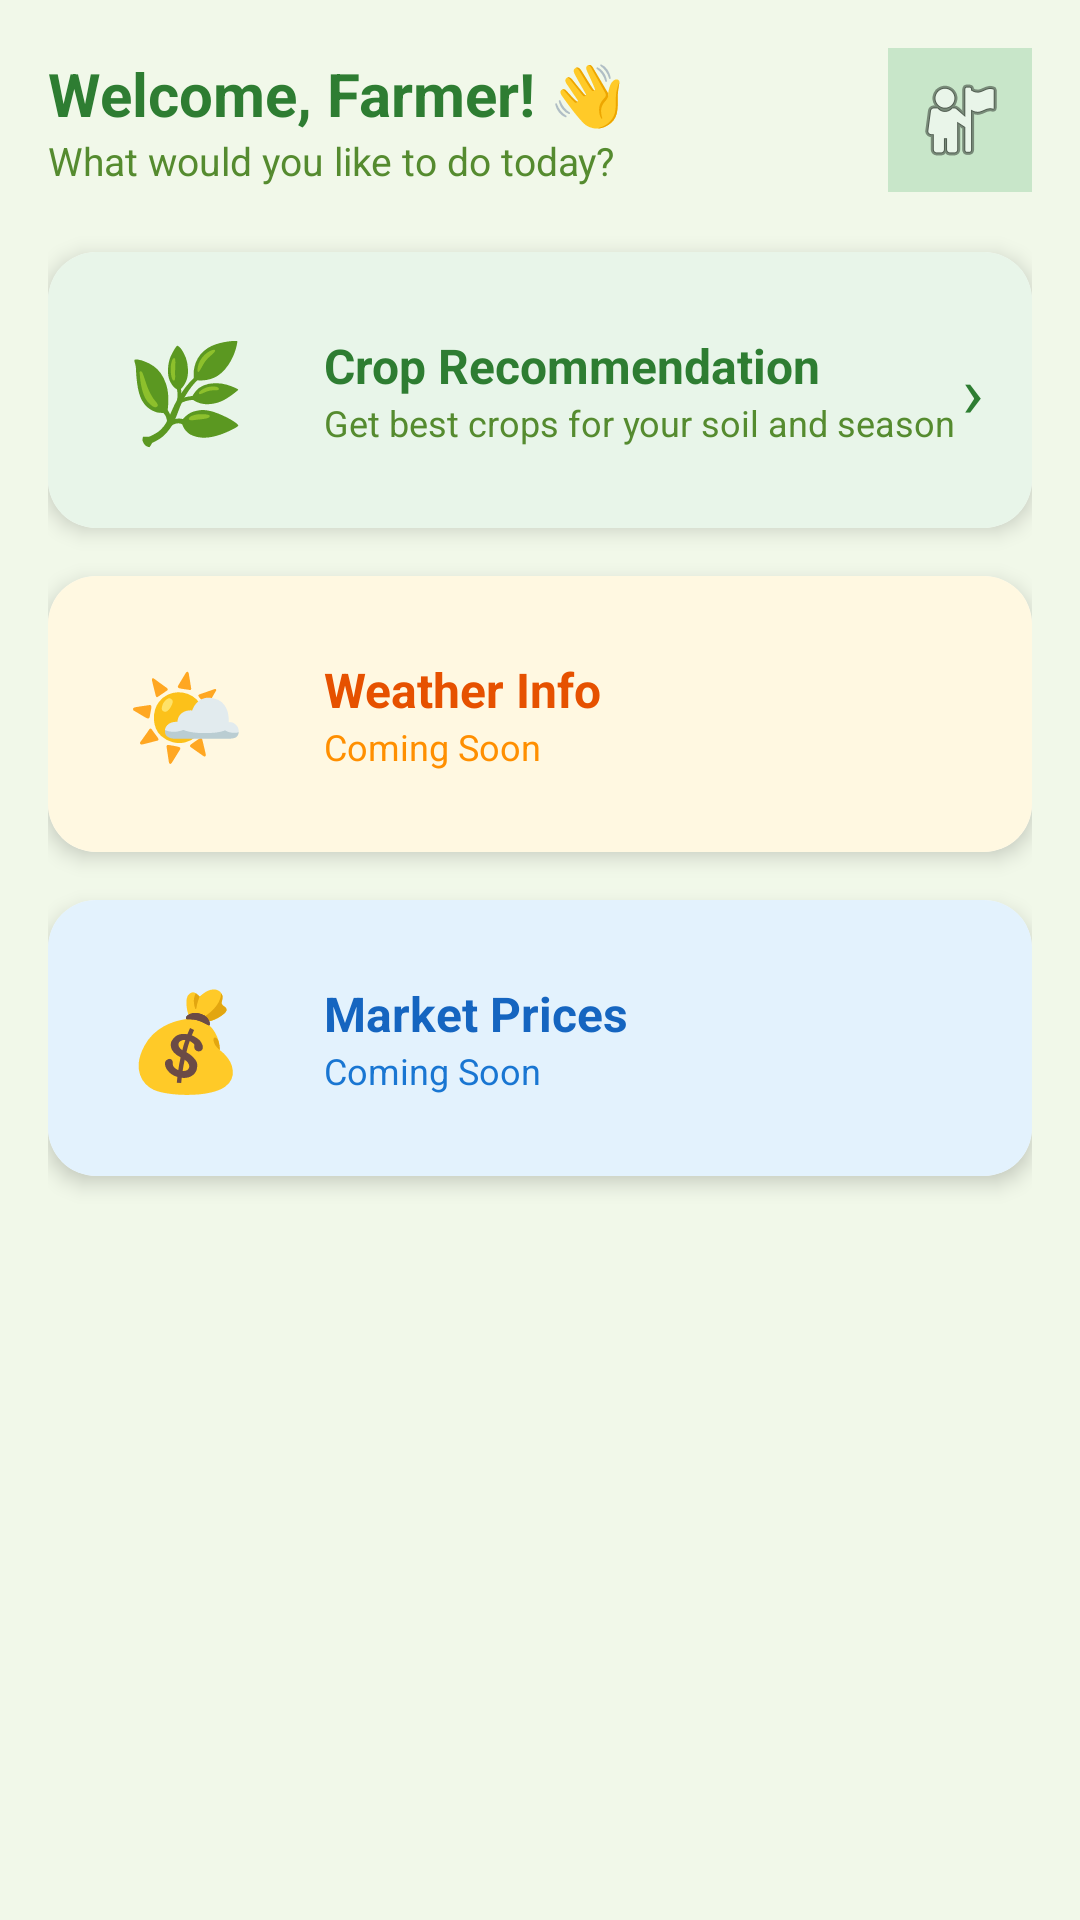

Named icons in this screenshot (1080 x 1920) and their centers, (x=x, y=y):
myplaces: (x=960, y=120)
